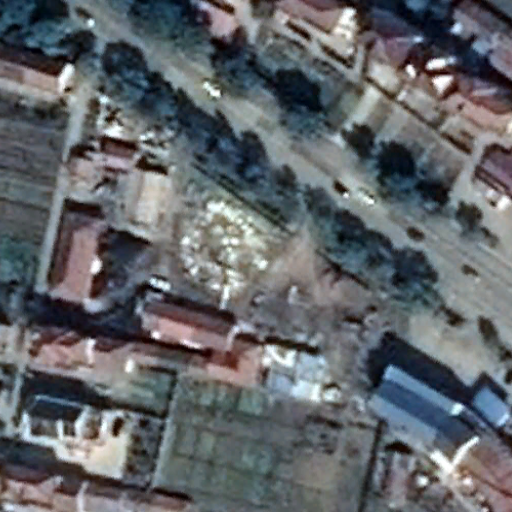msw: (177, 198, 285, 310)
